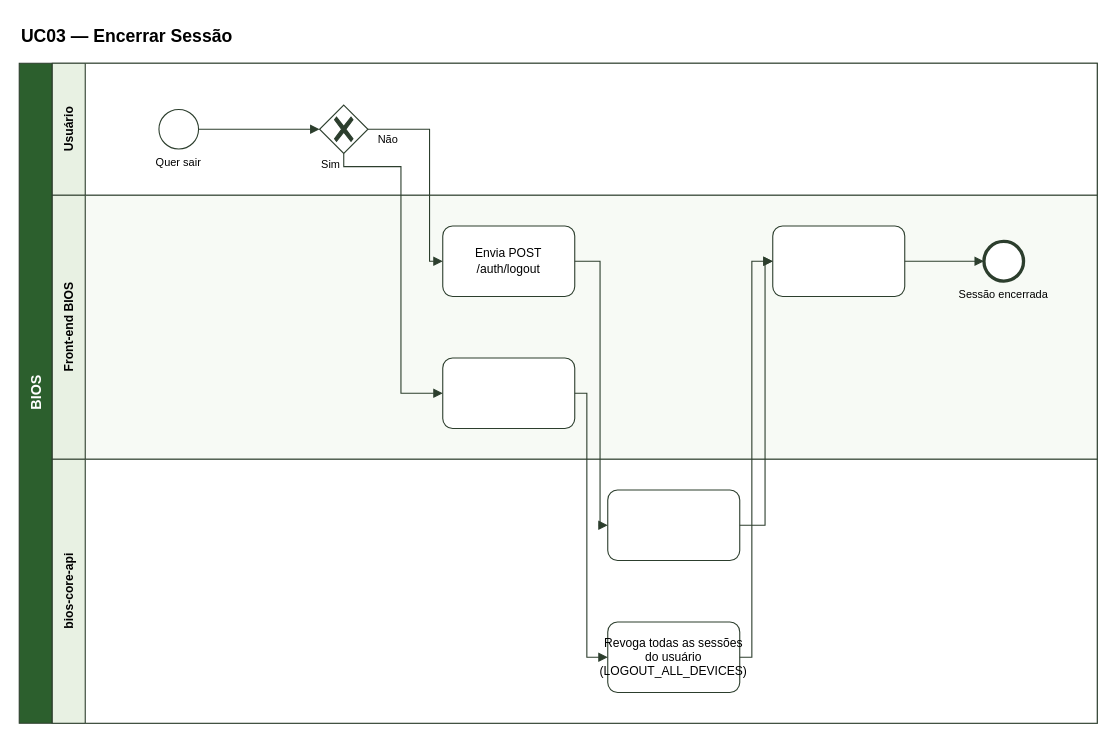
The diagram is 1117 pixels wide and 743 high, and some of its shapes have lost their labels. The shapes that lost their labels are listed below. From the top down, each one's centre as x and y in pixels, then its label:
(x=343, y=128): De todos os dispositivos?
(x=838, y=260): Descarta os tokens e exibe o login
(x=508, y=392): Envia POST /auth/logout-all
(x=673, y=524): Revoga a família da sessão atual (LOGOUT)
